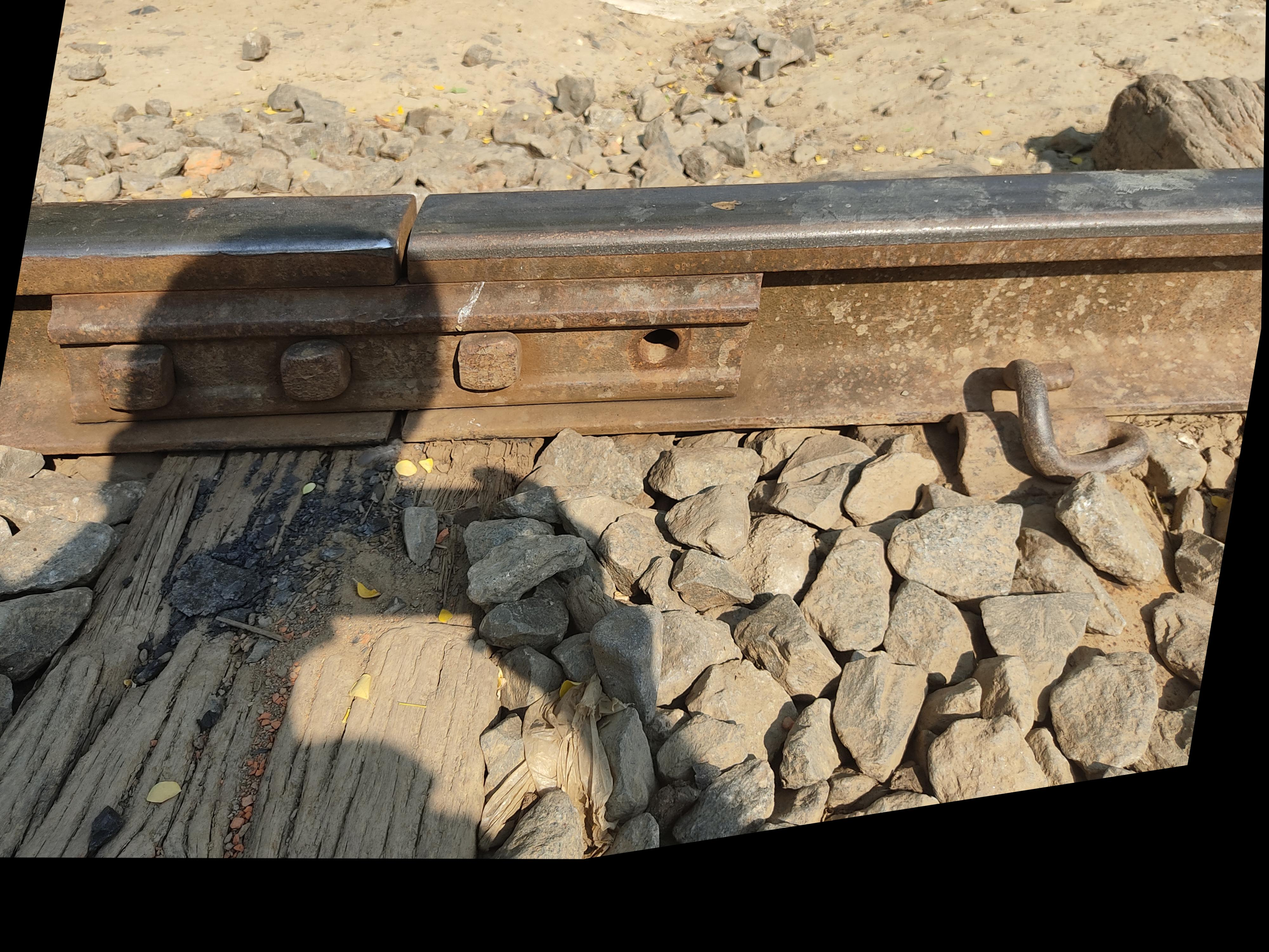person: (402, 61, 563, 241), (443, 296, 518, 382)
